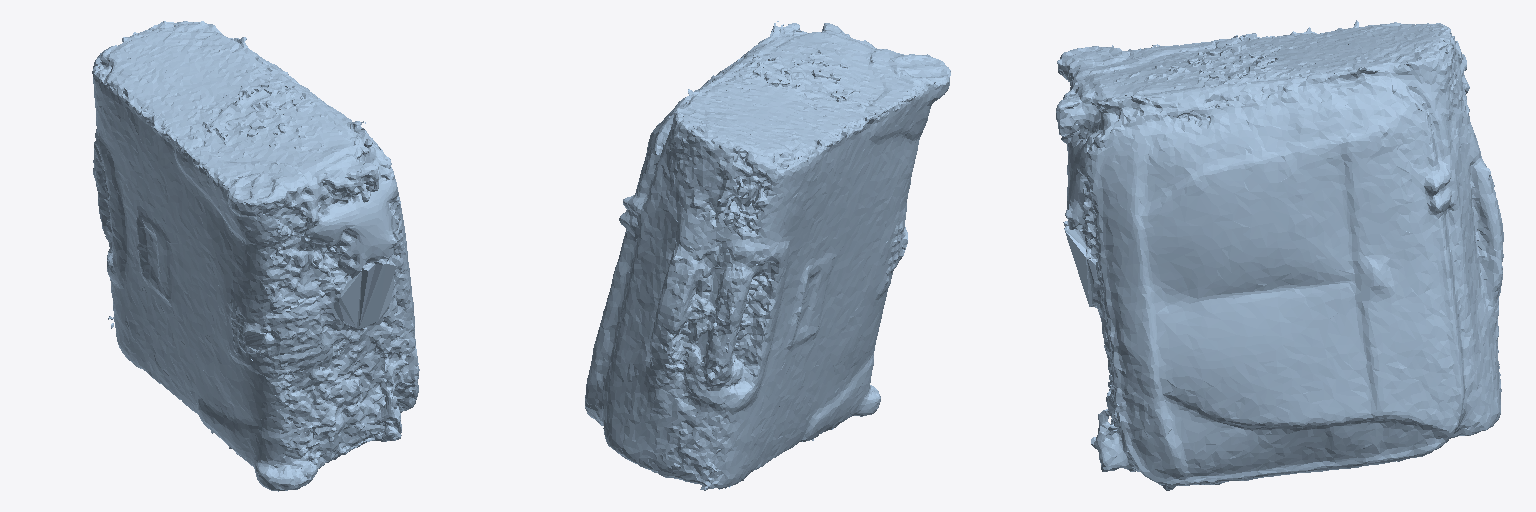
robot.urdf — suitcase.urdf:
<?xml version="1.0" ?>
<robot name="suitcase.urdf">
  <dynamics damping="0.5" friction="0.9"/>
  <link name="baseLink">
    <contact>
      <lateral_friction value="0.9"/>
      <rolling_friction value="0.5"/>
      <stiffness value="30000"/>
      <damping value="1000"/>
    </contact>
    <visual>
      <origin rpy="0 0 0" xyz="0 0 0"/>
      <geometry>
        <mesh filename="objects/suitcase/suitcase.obj" scale="1.0 1.0 1.0"/>
      </geometry>
       <material name="mat">
        <color rgba="0.7 0.8 0.9 1"/>
      </material>
    </visual>
    <collision>
      <origin rpy="0 0 0" xyz="0 0 0"/>
      <geometry>
         <mesh filename="objects/suitcase/suitcase.obj" scale="1.0 1.0 1.0"/>
      </geometry>
    </collision>
  </link>
</robot>

--- Facts derived from the render (not from the file) ---
The picture shows the robot from 3 angles, left to right: view 1: azimuth 30°, elevation 25°; view 2: azimuth 150°, elevation 25°; view 3: azimuth 270°, elevation 25°; orthographic projection.
Model suitcase.urdf with 1 links and 0 joints (none), rooted at baseLink, posed every joint at zero.
Visible links, largest first — view 1: baseLink; view 2: baseLink; view 3: baseLink.
Boxes of the visible links, x1,y1,x2,y2 form: baseLink: [92, 21, 419, 491]; baseLink: [585, 21, 950, 490]; baseLink: [1056, 20, 1503, 490].
Size in the robot's own frame: 0.2994 by 0.4745 by 0.487 metres.
Meshes: 1 distinct files referenced, 1 mesh visuals loaded (1 OBJ).
